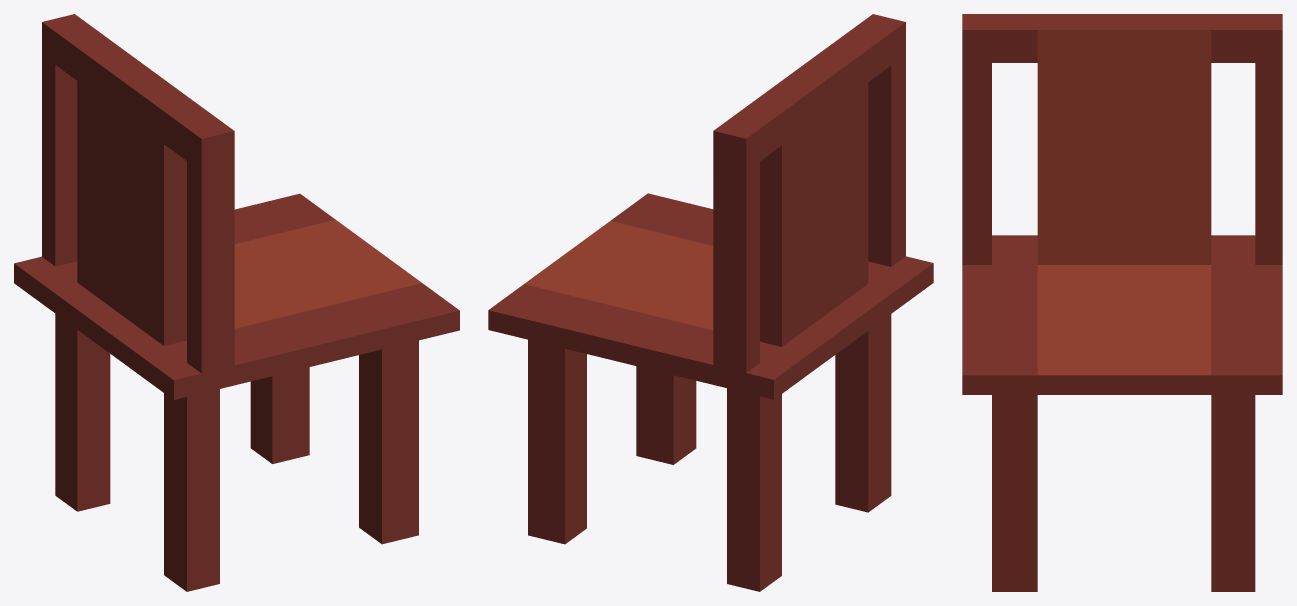
The model's file is chair.fbx.
3 views of the same model, side by side, from view 1: azimuth 30°, elevation 25°; view 2: azimuth 150°, elevation 25°; view 3: azimuth 270°, elevation 25° (orthographic).
Parts seen in each view (by area): view 1: Cube; view 2: Cube; view 3: Cube.
Part boxes in pixels (<box>): Cube: <box>14,14,459,591</box>; Cube: <box>488,14,933,591</box>; Cube: <box>962,14,1282,591</box>.
Size of the model in its own units: 177 by 275 by 172.
